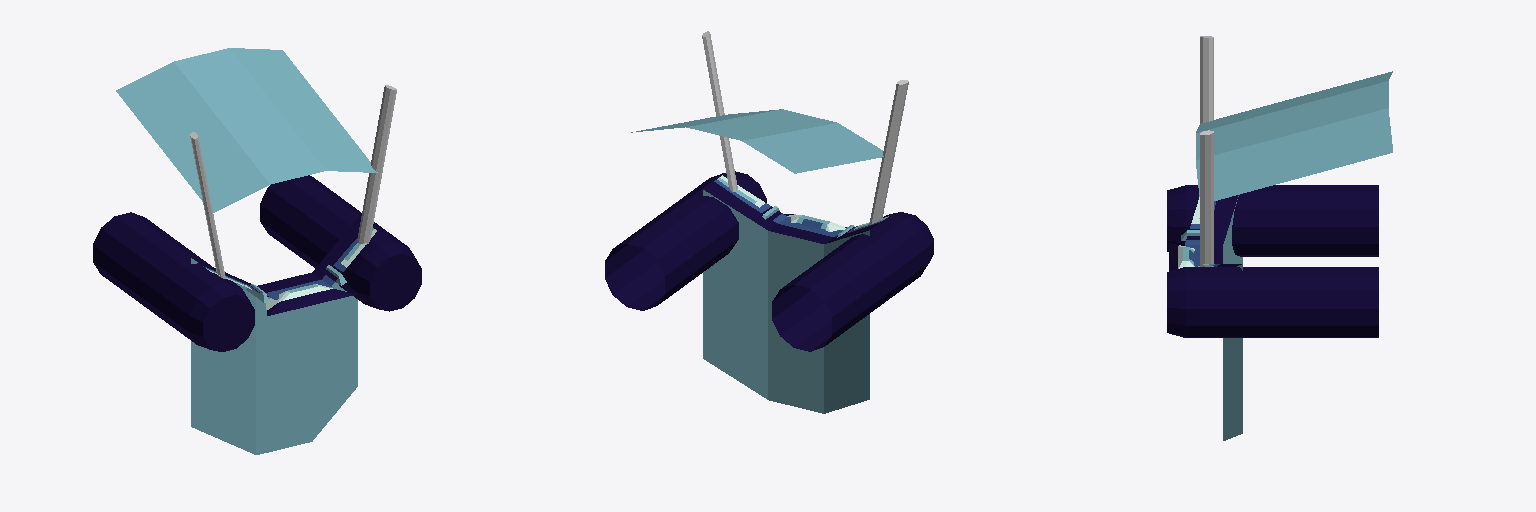
3 renders of one model, left to right at view 1: azimuth 30°, elevation 25°; view 2: azimuth 150°, elevation 25°; view 3: azimuth 270°, elevation 25°, orthographic.
Visible parts, largest first — view 1: cuboid, cylinder; view 2: cuboid, cylinder; view 3: cylinder, cuboid.
Boxes of the visible parts, x1,y1,x2,y2 form: cuboid: [116, 48, 377, 454]; cylinder: [93, 85, 421, 351]; cuboid: [631, 109, 888, 413]; cylinder: [605, 31, 933, 351]; cylinder: [1167, 36, 1378, 337]; cuboid: [1169, 71, 1392, 440].
Bounding box in the file's own units: 0.0852 × 0.1228 × 0.0734.
Materials: 2 (1 with a texture image).